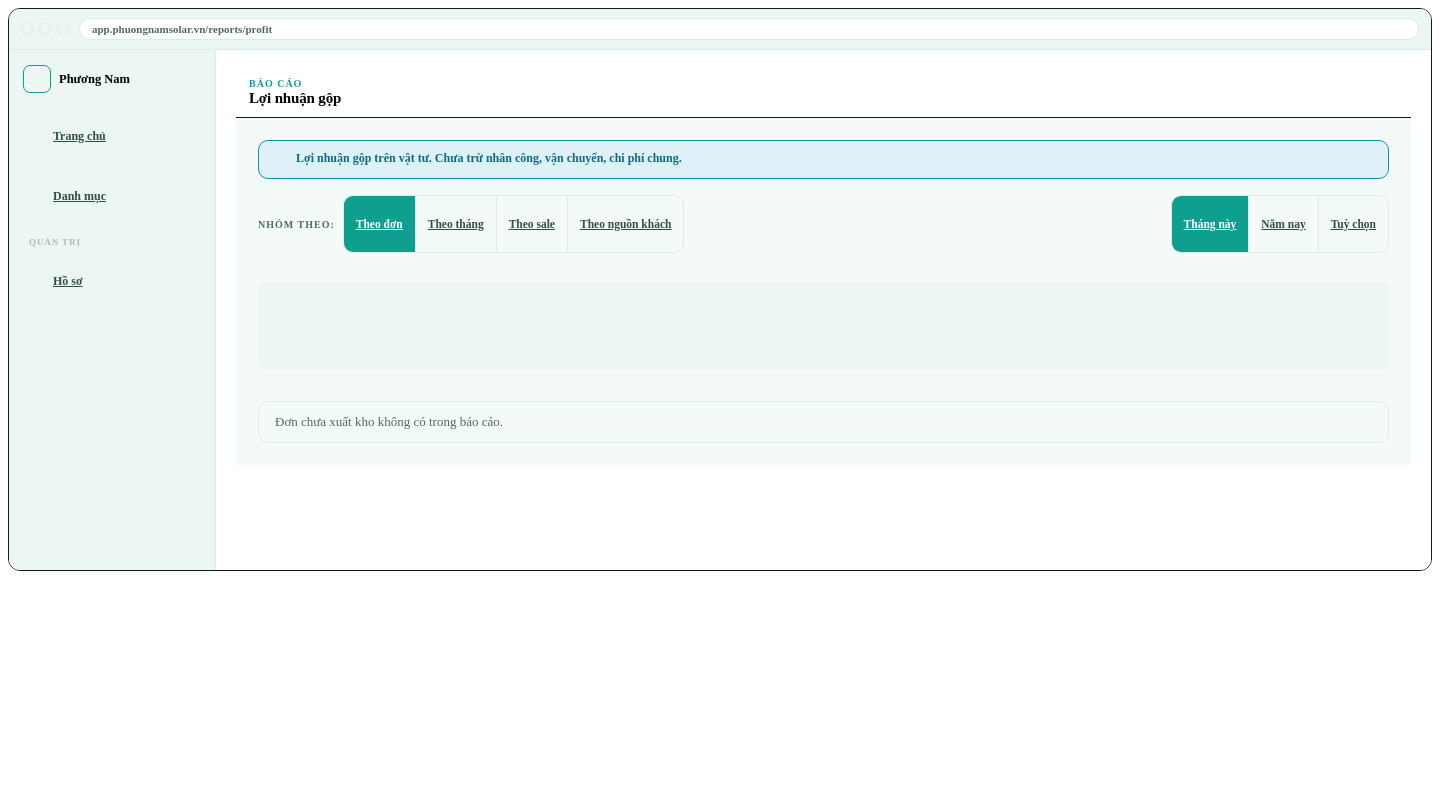
Scenario: ProfitReportScreen › a slow reply to an earlier grouping does not repaint the table
What coordinates should you click on to do the following:
click the link "Theo nguồn khách"
I would click on:
 (626, 224)
Its box is [580, 218, 671, 230].
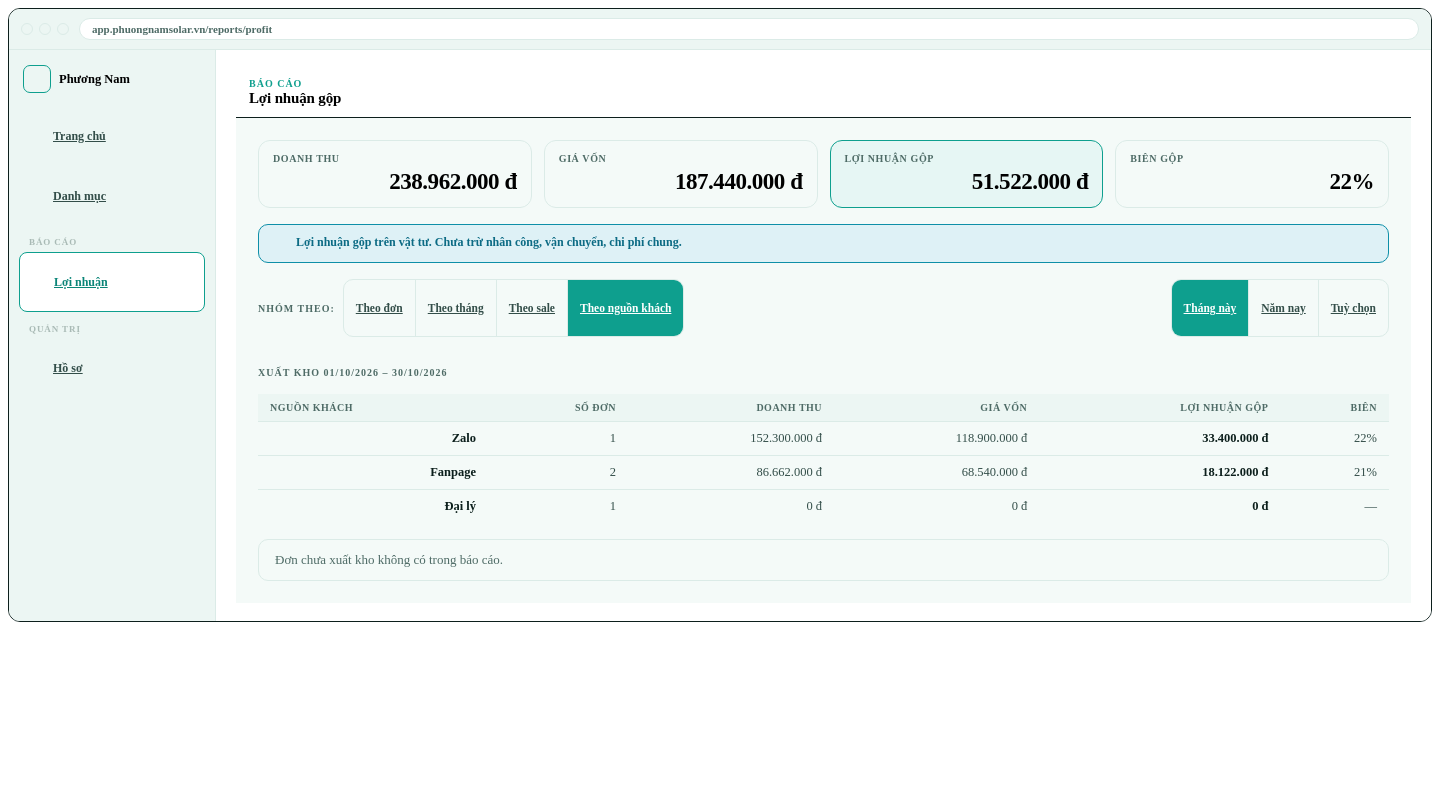
Check: the text "Zalo" is shown, box [258, 422, 488, 456]
Check: the column heading "Nguồn khách" is shown, box [258, 394, 488, 422]
